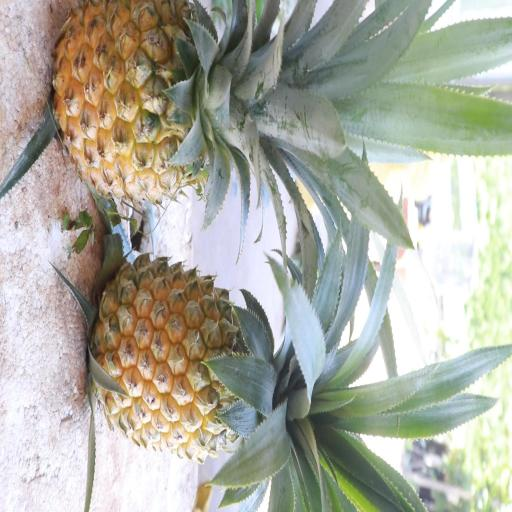Pineapple - v8 v1: (86, 246, 335, 469), (47, 0, 296, 216)
